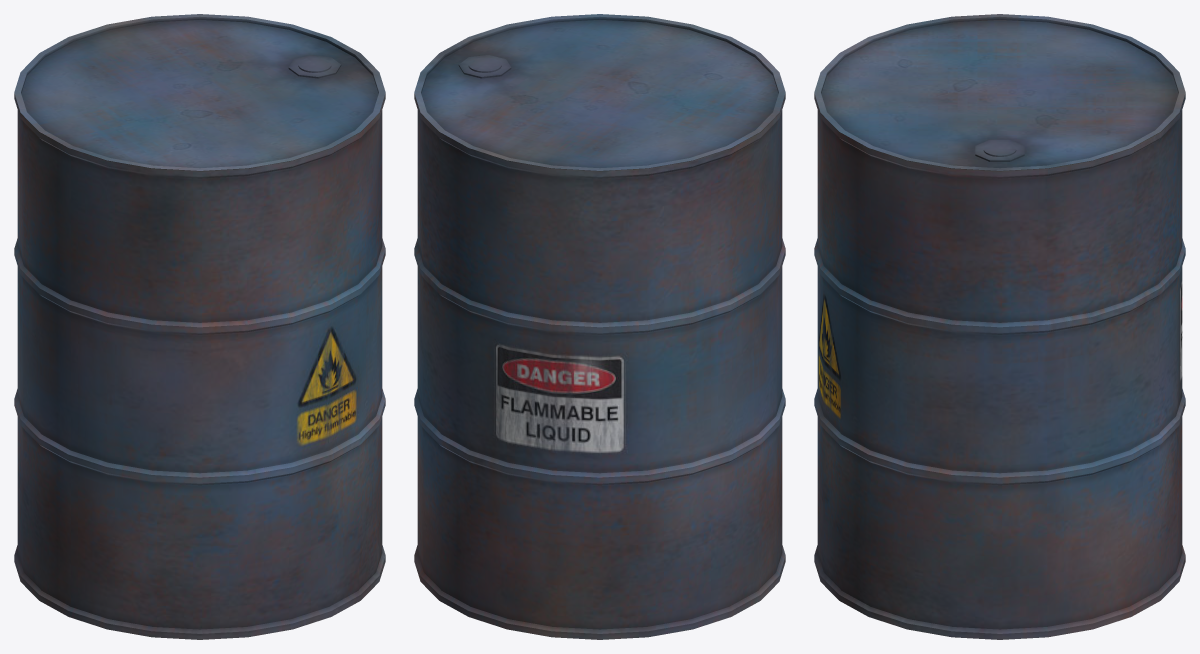
Rendered from OilBarrels_b.fbx.
3 renders of one model, left to right at view 1: azimuth 30°, elevation 25°; view 2: azimuth 150°, elevation 25°; view 3: azimuth 270°, elevation 25°, orthographic.
Visible parts, largest first — view 1: Barrel01_1; view 2: Barrel01_1; view 3: Barrel01_1.
Boxes of the visible parts, x1,y1,x2,y2 form: Barrel01_1: (14,14,385,639); Barrel01_1: (414,14,785,639); Barrel01_1: (814,14,1185,639).
Bounding box in the file's own units: 0.56 × 0.78 × 0.56.
